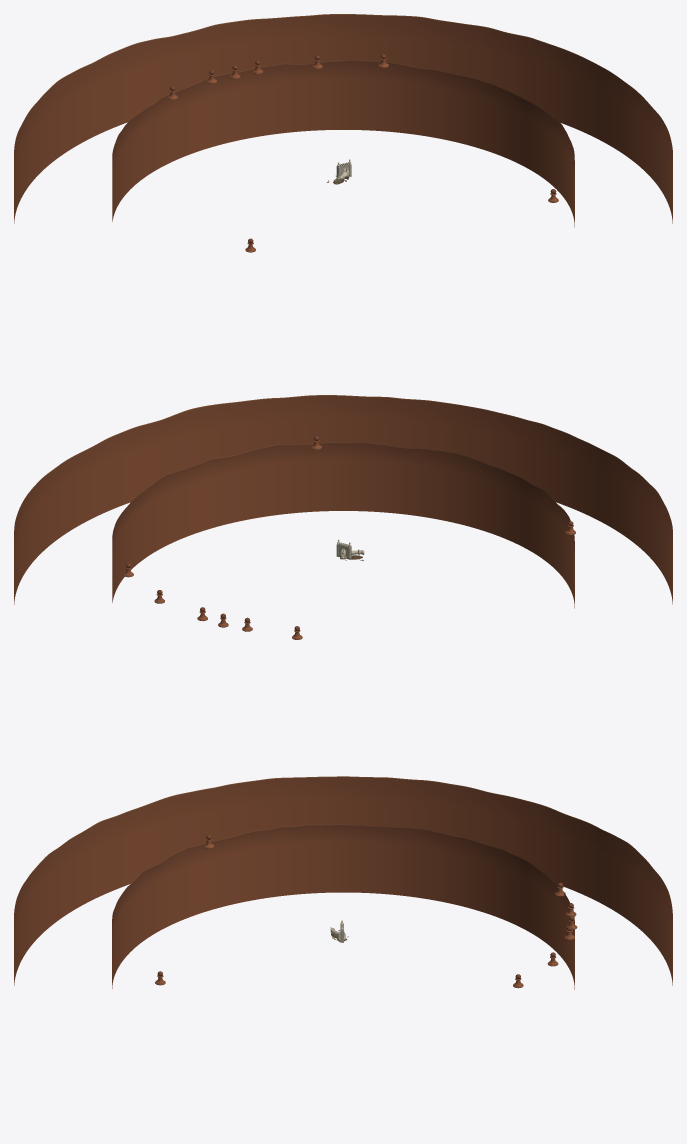
The model's file is openings.glb.
3 views of the same model, one above another, from view 1: azimuth 30°, elevation 25°; view 2: azimuth 150°, elevation 25°; view 3: azimuth 270°, elevation 25° (orthographic).
Parts seen in each view (by area): view 1: horizon-far, horizon-near; view 2: horizon-far, horizon-near; view 3: horizon-far, horizon-near.
Boxes of the visible parts, x1,y1,x2,y2 form: horizon-far: (14, 14, 672, 223); horizon-near: (112, 54, 574, 252); horizon-far: (14, 395, 672, 604); horizon-near: (112, 436, 575, 639); horizon-far: (14, 776, 672, 985); horizon-near: (112, 824, 577, 989).
Size of the model in its own units: 470 by 61.61 by 470.
Materials: 21 (20 with a texture image).
